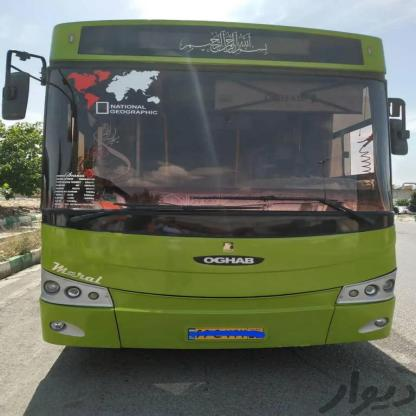Bus: (0, 0, 416, 384)
